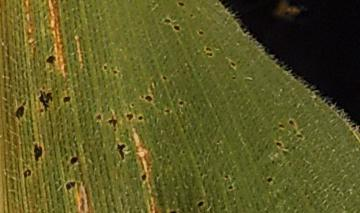tarspot: (37, 89, 55, 115), (113, 141, 128, 161), (31, 142, 44, 163), (139, 91, 157, 106), (14, 100, 26, 120), (106, 116, 121, 132), (45, 53, 56, 67), (64, 180, 77, 191), (194, 198, 207, 209), (68, 155, 80, 166), (93, 111, 104, 123), (22, 166, 32, 179), (139, 171, 149, 183), (264, 175, 276, 185), (273, 139, 285, 149), (276, 121, 287, 131), (161, 17, 173, 26), (61, 94, 71, 104), (124, 111, 134, 121), (163, 106, 173, 116), (176, 99, 187, 108), (294, 132, 305, 141), (172, 23, 181, 33), (229, 60, 238, 70), (225, 183, 235, 192), (196, 27, 205, 36), (222, 172, 231, 181), (160, 73, 170, 81), (136, 114, 145, 122), (287, 119, 297, 126), (102, 63, 109, 71), (129, 101, 136, 109), (176, 1, 185, 7), (112, 69, 119, 76), (290, 144, 297, 151), (204, 46, 212, 52), (230, 74, 236, 81), (206, 53, 214, 58), (189, 13, 195, 19)
